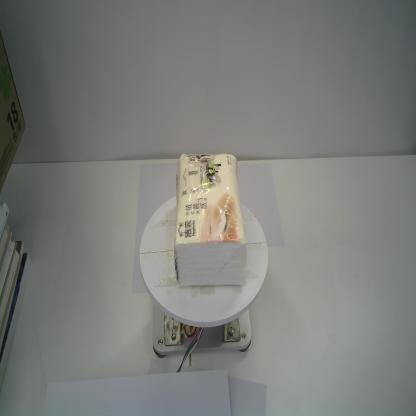Tissue: (172, 152, 247, 285)
